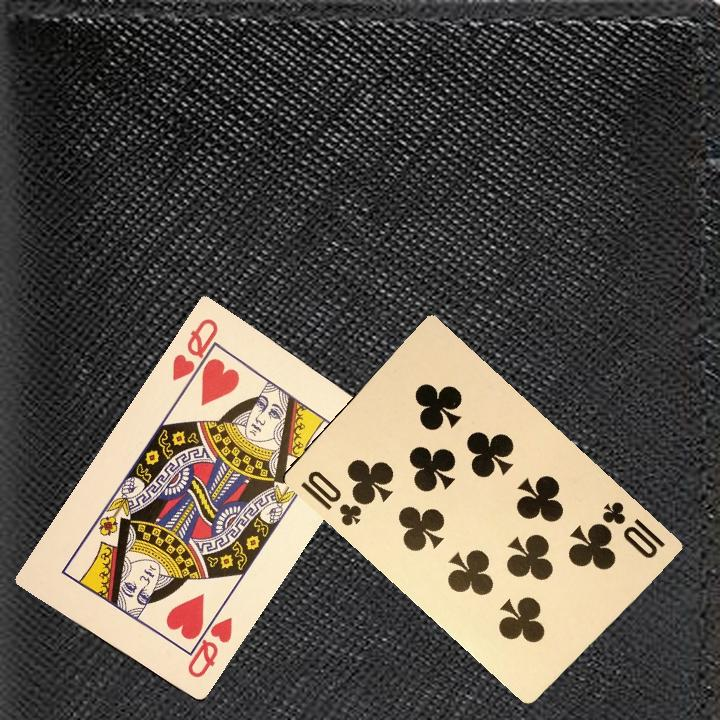10c: (598, 497, 668, 562), (296, 466, 364, 529)
Qh: (167, 314, 221, 393), (183, 606, 235, 681)
